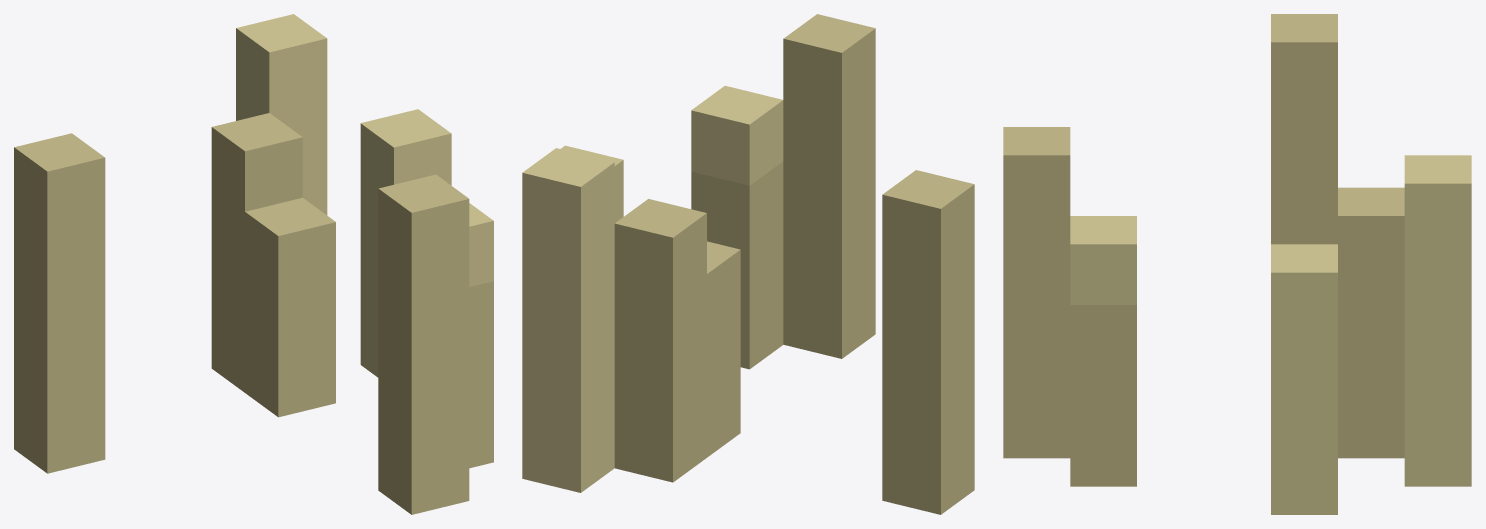
File: trigo_silvestre_02.glb
3 renders of one model, left to right at view 1: azimuth 30°, elevation 25°; view 2: azimuth 150°, elevation 25°; view 3: azimuth 270°, elevation 25°, orthographic.
Parts seen in each view (by area): view 1: trigo_silvestre_02; view 2: trigo_silvestre_02; view 3: trigo_silvestre_02.
Boxes of the visible parts, x1,y1,x2,y2 form: trigo_silvestre_02: (14,14,493,514); trigo_silvestre_02: (522,14,974,514); trigo_silvestre_02: (1003,14,1471,514).
Size of the model in its own units: 0.7 by 0.5 by 0.7.
